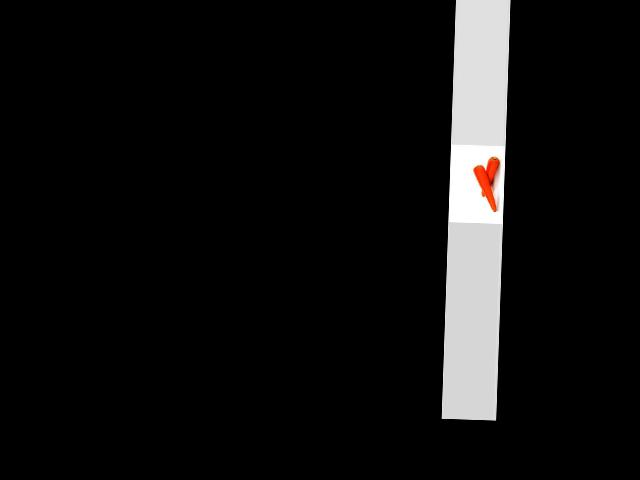carrot: (479, 153, 500, 200)
